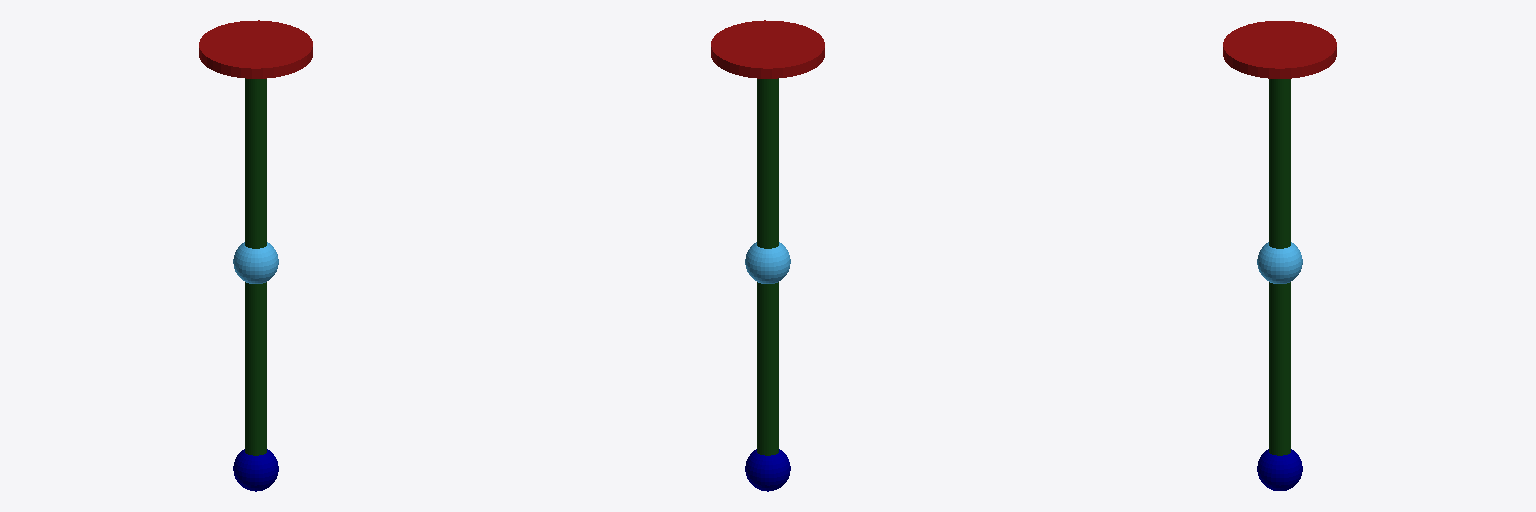
URDF robot description (double_pendulum):
<?xml version="1.0" ?>

<robot name="double_pendulum">

	<material name="material_red_custom">
		<color rgba="0.6 0.1 0.1 1.0" />
	</material>
	<material name="material_green_custom">
		<color rgba="0.1 0.3 0.1 1.0" />
	</material>
	<material name="material_blue">
		<color rgba="0.0 0.0 0.6 1.0" />
	</material>

	<link name="base_link">
		<inertial>
			<origin xyz="0.0 0.0 0.0" rpy="0 0 0" />
			<mass value="1" />
			<inertia ixx="0.1" iyy="0.1" izz="0.1" ixy="0" ixz="0" iyz="0" />
		</inertial>
		<visual>
			<origin xyz="0.0 0.0 0.025" rpy="0 0 0" />
			<geometry>
				<cylinder radius="0.25" length="0.05"/>
			</geometry>
			<material name="material_red_custom" />
		</visual>
	</link>
	<link name="link0">
		<inertial>
			<origin xyz="0.0 0.0 -1.0" rpy="0 0 0" />
			<mass value="1" />
			<inertia ixx="0.1" iyy="0.1" izz="0.1" ixy="0" ixz="0" iyz="0" />
		</inertial>
		<visual>
			<origin xyz="0.0 0.0 -1.0" rpy="0 0 0" />
			<geometry>
				<sphere radius="0.1" />
			</geometry>
		</visual>
		<visual>
			<origin xyz="0.0 0.0 -0.5" rpy="0 0 0" />
			<geometry>
				<cylinder radius="0.05" length="1.0" />
			</geometry>
			<material name="material_green_custom" />
		</visual>
	</link>
	<link name="link1">
		<inertial>
			<origin xyz="0.0 0.0 -1.0" rpy="0 0 0" />
			<mass value="1" />
			<inertia ixx="0.1" iyy="0.1" izz="0.1" ixy="0" ixz="0" iyz="0" />
		</inertial>
		<visual>
			<origin xyz="0.0 0.0 -1.0" rpy="0 0 0" />
			<geometry>
				<sphere radius="0.1" />
			</geometry>
			<material name="material_blue" />
		</visual>
		<visual>
			<origin xyz="0.0 0.0 -0.5" rpy="0 0 0" />
			<geometry>
				<cylinder radius="0.05" length="1.0" />
			</geometry>
			<material name="material_green_custom" />
		</visual>
	</link>

	<joint name="j0" type="revolute">
		<parent link="base_link" />
		<child link="link0" />
		<origin xyz="0.000000 0.000000 0.000000" rpy="-0.000000 0.000000 -0.000000" />
		<axis xyz="1 0 0" />
		<limit lower="-1.4" upper="1.4" effort="176" velocity="1.7104" />
		<calibration rising="0.5" />
	</joint>
	<joint name="j1" type="revolute">
		<parent link="link0" />
		<child link="link1" />
		<origin xyz="0.000000 0.000000 -1.000000" rpy="-0.000000 0.000000 -0.000000" />
		<axis xyz="1 0 0" />
		<limit lower="-2.5" upper="2.5" effort="176" velocity="1.7104" />
		<calibration rising="0.8" />
	</joint>

</robot>

--- Facts derived from the render (not from the file) ---
Views: 3 orthographic renders of the robot side by side, from view 1: azimuth 30°, elevation 25°; view 2: azimuth 150°, elevation 25°; view 3: azimuth 270°, elevation 25°.
Robot: double_pendulum — 3 links, 2 joints (2 revolute); root link base_link; default pose: all joints at 0.
Visible links, largest first — view 1: base_link, link1, link0; view 2: base_link, link1, link0; view 3: base_link, link1, link0.
Link boxes in pixels (x1,y1,x2,y2): base_link: (199, 20, 312, 78); link1: (233, 282, 278, 491); link0: (233, 78, 278, 283); base_link: (711, 20, 824, 78); link1: (745, 282, 790, 491); link0: (745, 78, 790, 283); base_link: (1223, 21, 1336, 78); link1: (1257, 282, 1302, 490); link0: (1257, 79, 1302, 283).
Bounding box of the posed robot: 0.5 × 0.5 × 2.15 m (x, y, z).
Geometry: primitives only (box / cylinder / sphere), no mesh files.